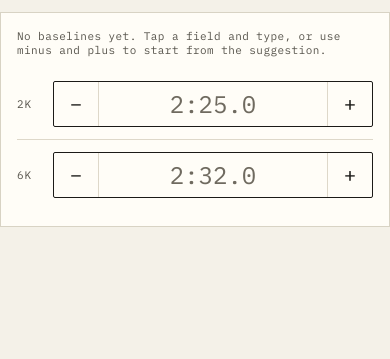
the derivation offer (ui-notes round, item 2) › Apply commits only touched fields (Finding 1, tightened by PR A provenance) › the confirm block previews ONLY the field(s) actually being committed — a rower never sees an untouched value listed as changing
In the field named "6k split": (213, 175) [107,153,319,197], type "233"
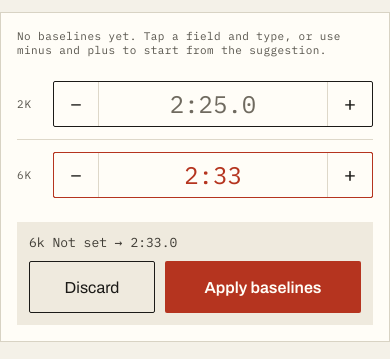
Result: the text "6k Not set → 2:33.0" is shown at [29,234,177,251]
